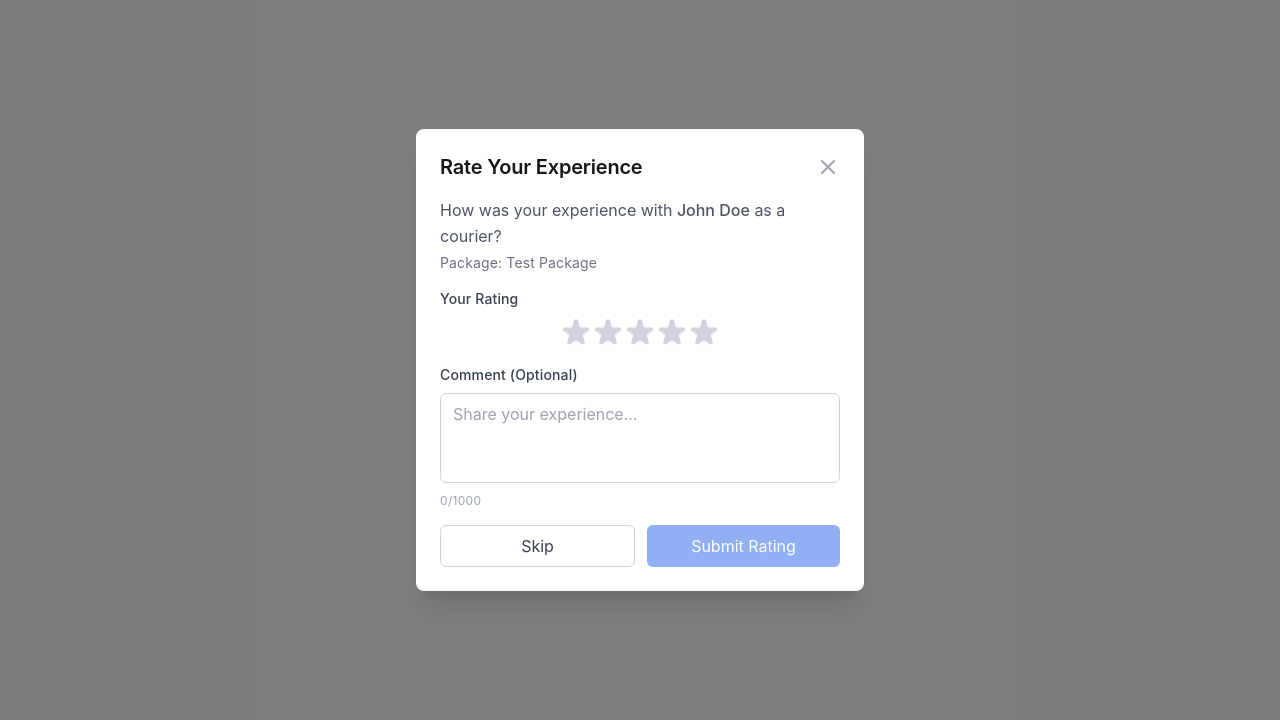
RatingModal › enables submit button when rating is selected
Click the button named "3 stars": (640, 333) [624,317,656,349]
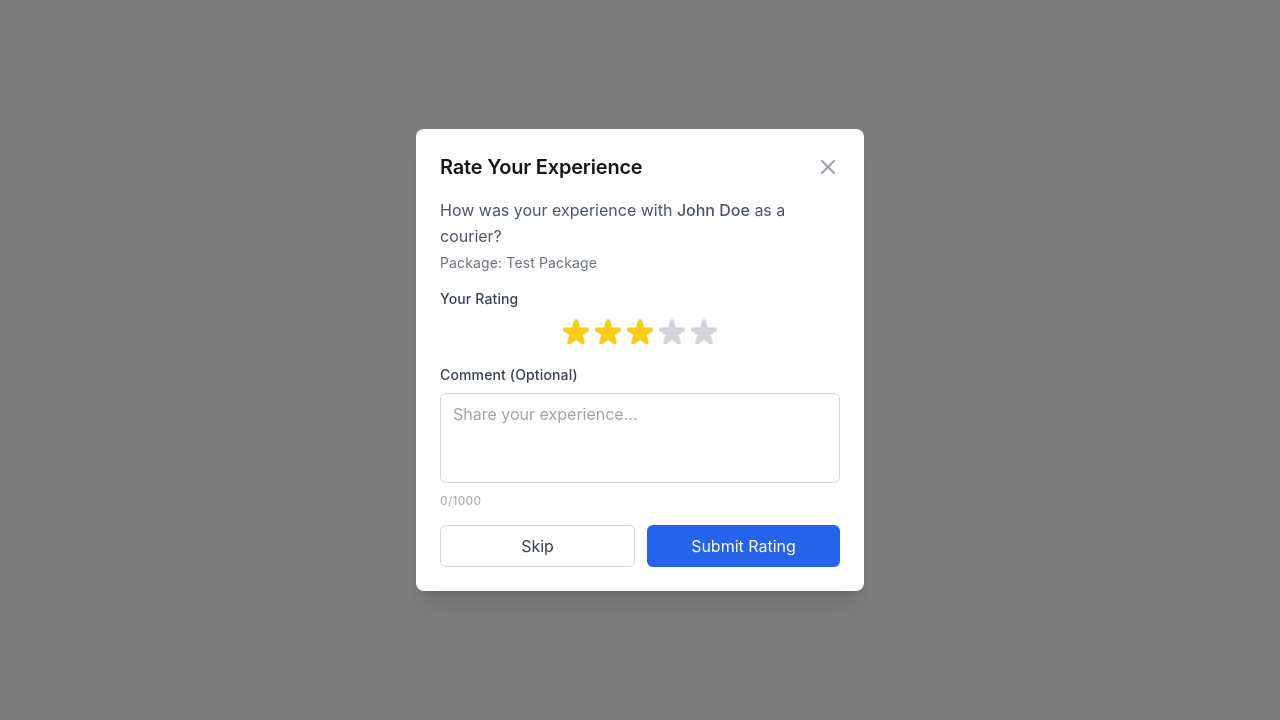
expect the button "Submit Rating" is enabled: met, box [647,525,840,567]
